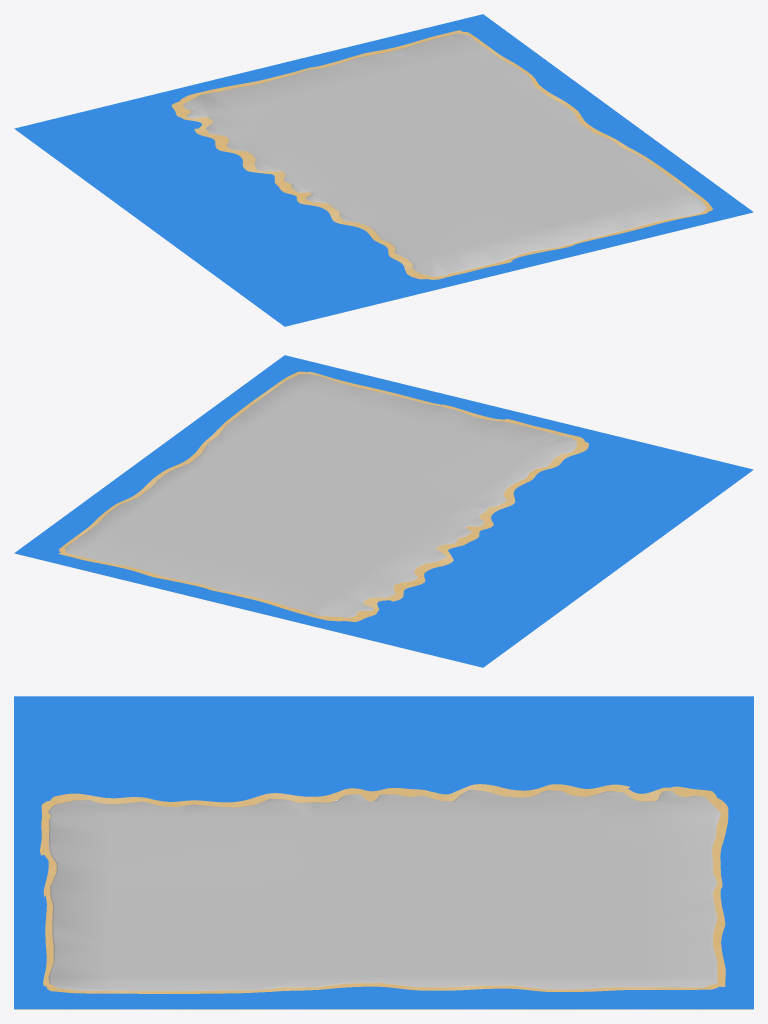
The model's file is dimian01.fbx.
3 renders of one model, top to bottom at view 1: azimuth 30°, elevation 25°; view 2: azimuth 150°, elevation 25°; view 3: azimuth 270°, elevation 25°, orthographic. The views are drawn at different scales.
Visible parts, largest first — view 1: dibiao01, haimian01, dibao02; view 2: dibiao01, haimian01, dibao02; view 3: dibiao01, haimian01, dibao02.
Part boxes in pixels (box(x1,y1,x2,y2)): dibiao01: box(183, 33, 706, 276); haimian01: box(14, 14, 753, 326); dibao02: box(171, 30, 712, 279); dibiao01: box(65, 374, 576, 617); haimian01: box(14, 355, 753, 667); dibao02: box(25, 371, 588, 658); dibiao01: box(48, 789, 720, 991); haimian01: box(14, 696, 753, 1009); dibao02: box(14, 784, 753, 1009).
Bounding box in the file's own units: 5999 × 30.67 × 5996.
